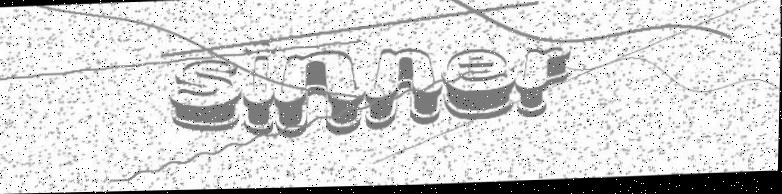e: (442, 48, 518, 123)
l: (242, 54, 277, 139)
n: (272, 49, 367, 140), (365, 47, 444, 133)
r: (514, 48, 571, 121)
s: (168, 57, 243, 135)
